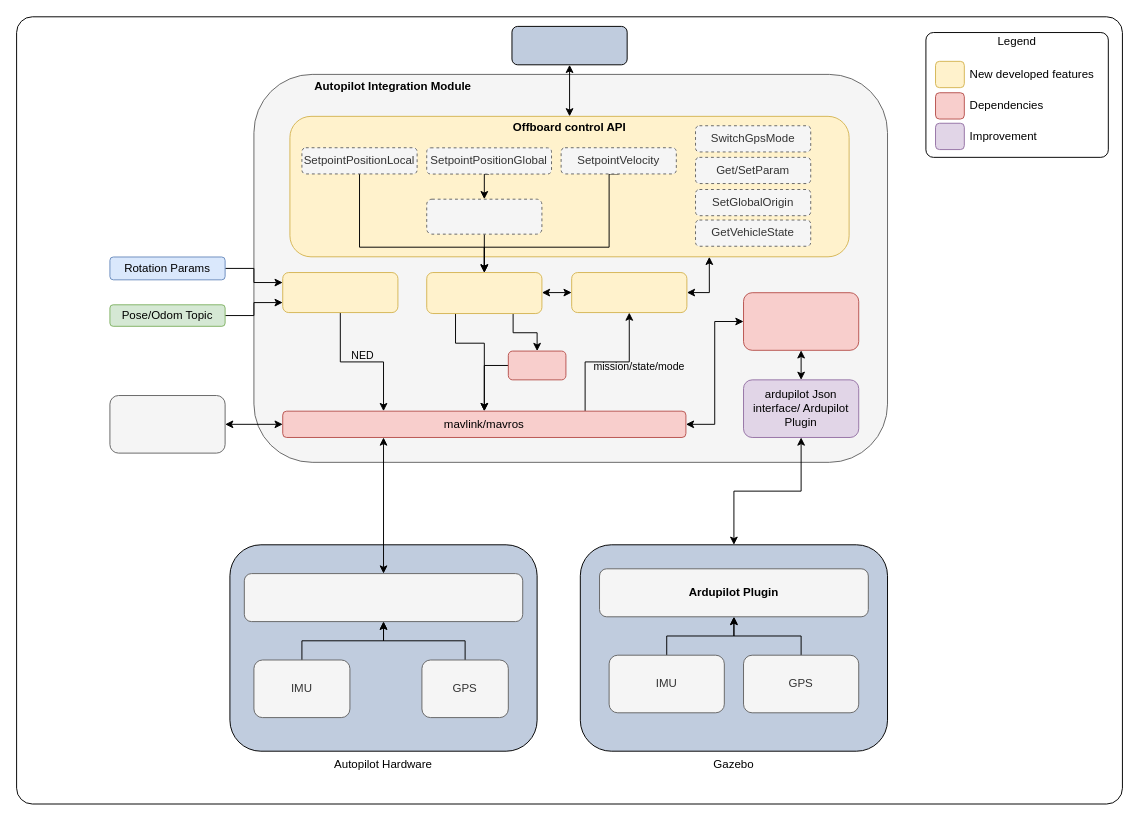
Some shapes in this 1140 by 821 pixel diagram are drawn without their labels. Here are the shapes that lost their labels. From the top down, the centre of each, then its label:
At point 569,45: "Application Code".
At point 484,216: "Geo Coordinate Conversion".
At point 340,292: "Pose Transformermation".
At point 484,293: "Navigation Switch".
At point 629,292: "Vehicle Controller".
At point 801,321: "SITL Node".
At point 536,365: "MoveBase".
At point 167,424: "GCS".
At point 383,597: "Autopilot".
